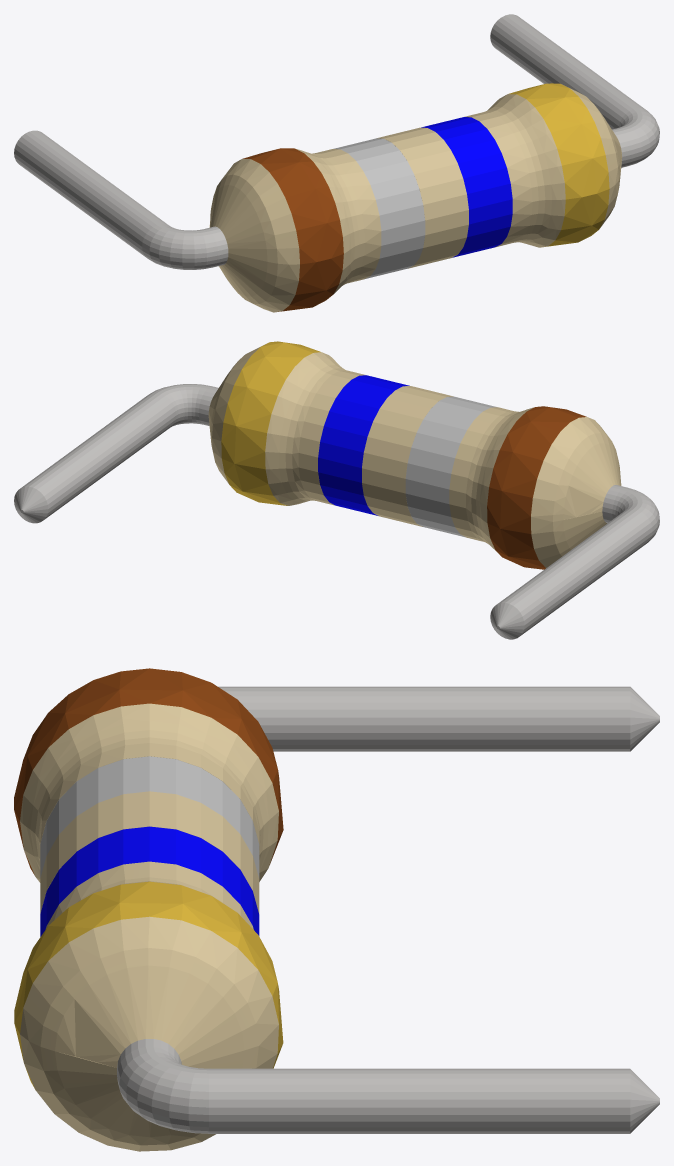
Rendered from Yageo CFR-25 Resistor Axial P7.62mm 18,0 MOhm.obj.
3 views of the same model, one above another, from view 1: azimuth 30°, elevation 25°; view 2: azimuth 150°, elevation 25°; view 3: azimuth 270°, elevation 25° (orthographic). The views are drawn at different scales.
Visible parts, largest first — view 1: Yageo_CFR-25_Resistor_Axial_P7.62mm_18,0_MOhm; view 2: Yageo_CFR-25_Resistor_Axial_P7.62mm_18,0_MOhm; view 3: Yageo_CFR-25_Resistor_Axial_P7.62mm_18,0_MOhm.
Part boxes in pixels (x1,y1,x2,y2): Yageo_CFR-25_Resistor_Axial_P7.62mm_18,0_MOhm: (14, 14, 659, 312); Yageo_CFR-25_Resistor_Axial_P7.62mm_18,0_MOhm: (14, 341, 659, 639); Yageo_CFR-25_Resistor_Axial_P7.62mm_18,0_MOhm: (14, 668, 659, 1151).
Size of the model in its own units: 0.0171 by 0.00471 by 0.0114.
